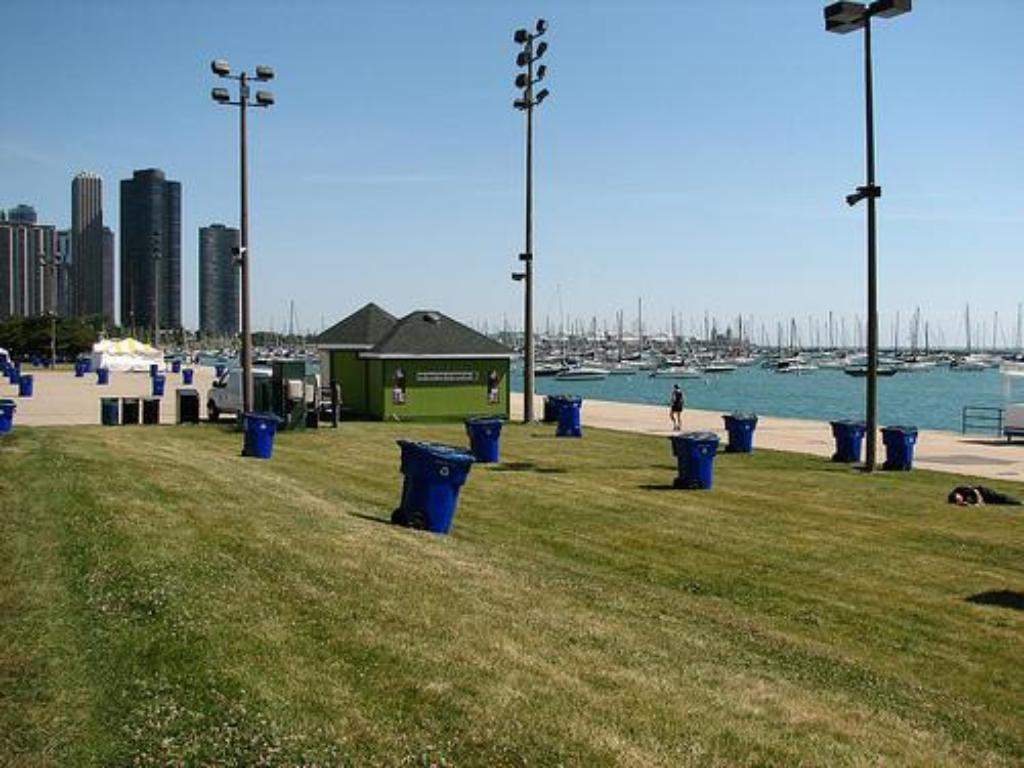dustbin: (390, 429, 483, 552), (232, 406, 294, 471), (657, 434, 723, 482), (545, 389, 602, 443), (720, 403, 768, 457), (97, 393, 164, 430), (827, 417, 867, 470), (882, 417, 917, 476)
